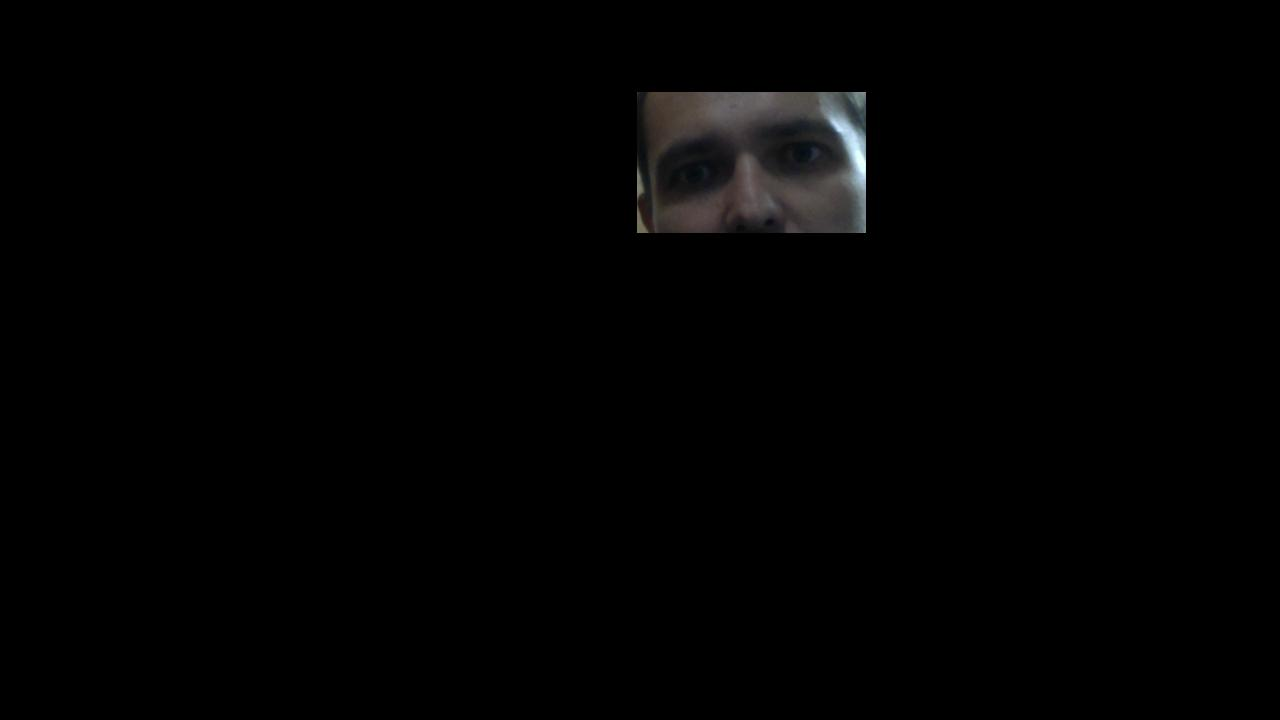eye: (790, 142, 811, 163), (684, 165, 706, 184)
